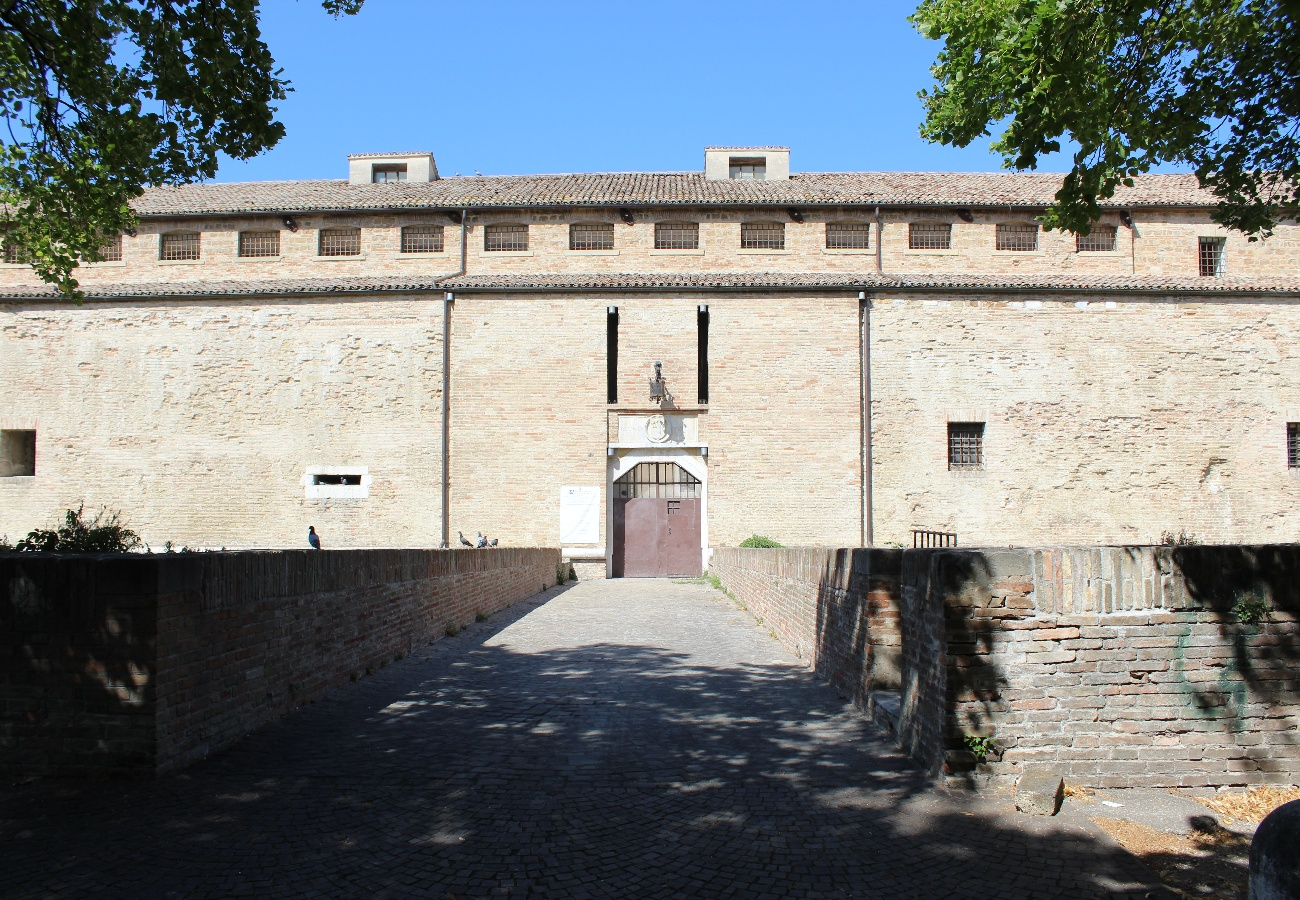Rocca Costanza: (3, 140, 1300, 611)
